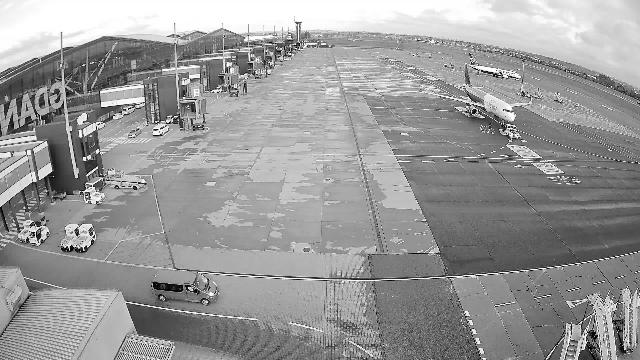Aircraft: (419, 64, 532, 127), (469, 53, 522, 79)
Airport_Tractor: (72, 224, 97, 253), (60, 224, 80, 252), (28, 226, 50, 246), (83, 186, 106, 205), (18, 220, 37, 243)
Baggage_Trolley: (85, 176, 104, 192), (52, 188, 66, 200)
Conveyor_Belt: (105, 170, 147, 190)
Ground_Crew: (489, 122, 492, 132)
Pushback_Tug: (505, 124, 520, 139)
